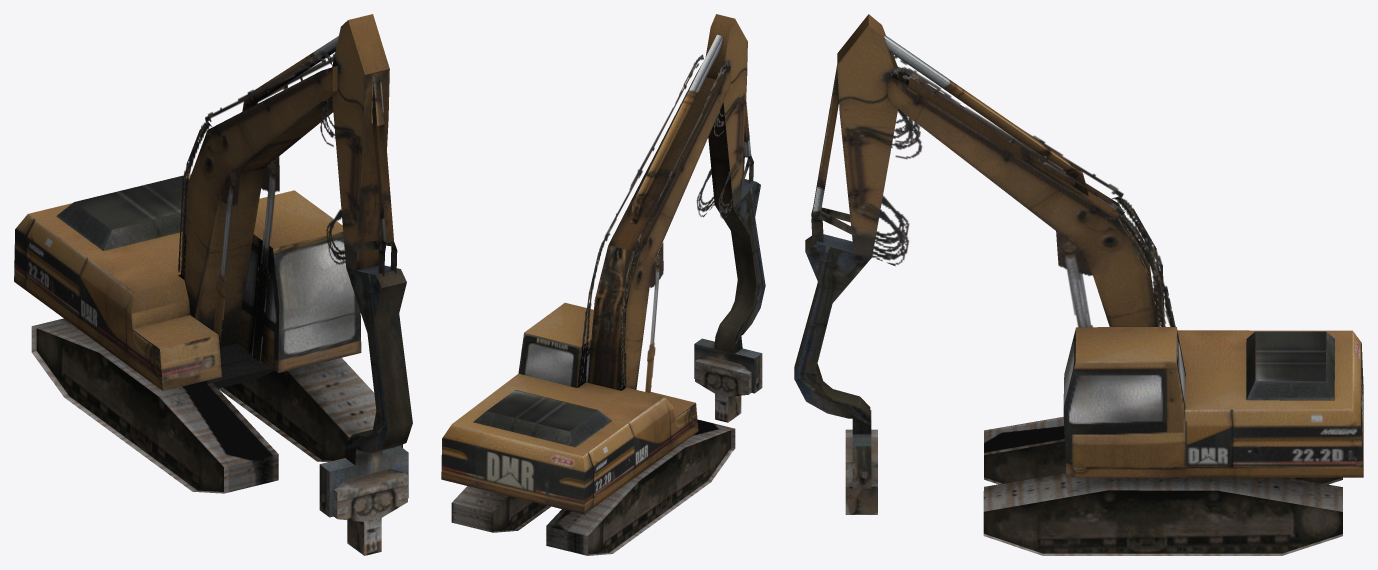
The model's file is backhoe.glb.
3 views of the same model, side by side, from view 1: azimuth 30°, elevation 25°; view 2: azimuth 150°, elevation 25°; view 3: azimuth 270°, elevation 25° (orthographic). The views are drawn at different scales.
Visible parts, largest first — view 1: Construction.006_Construction_Assets_0; view 2: Construction.006_Construction_Assets_0; view 3: Construction.006_Construction_Assets_0.
Part boxes in pixels (bbox=[...]): Construction.006_Construction_Assets_0: bbox=[14, 14, 412, 555]; Construction.006_Construction_Assets_0: bbox=[441, 14, 765, 555]; Construction.006_Construction_Assets_0: bbox=[794, 14, 1363, 555].
Size of the model in its own units: 3.43 by 9.2 by 9.67.
1 material, 1 textured.
